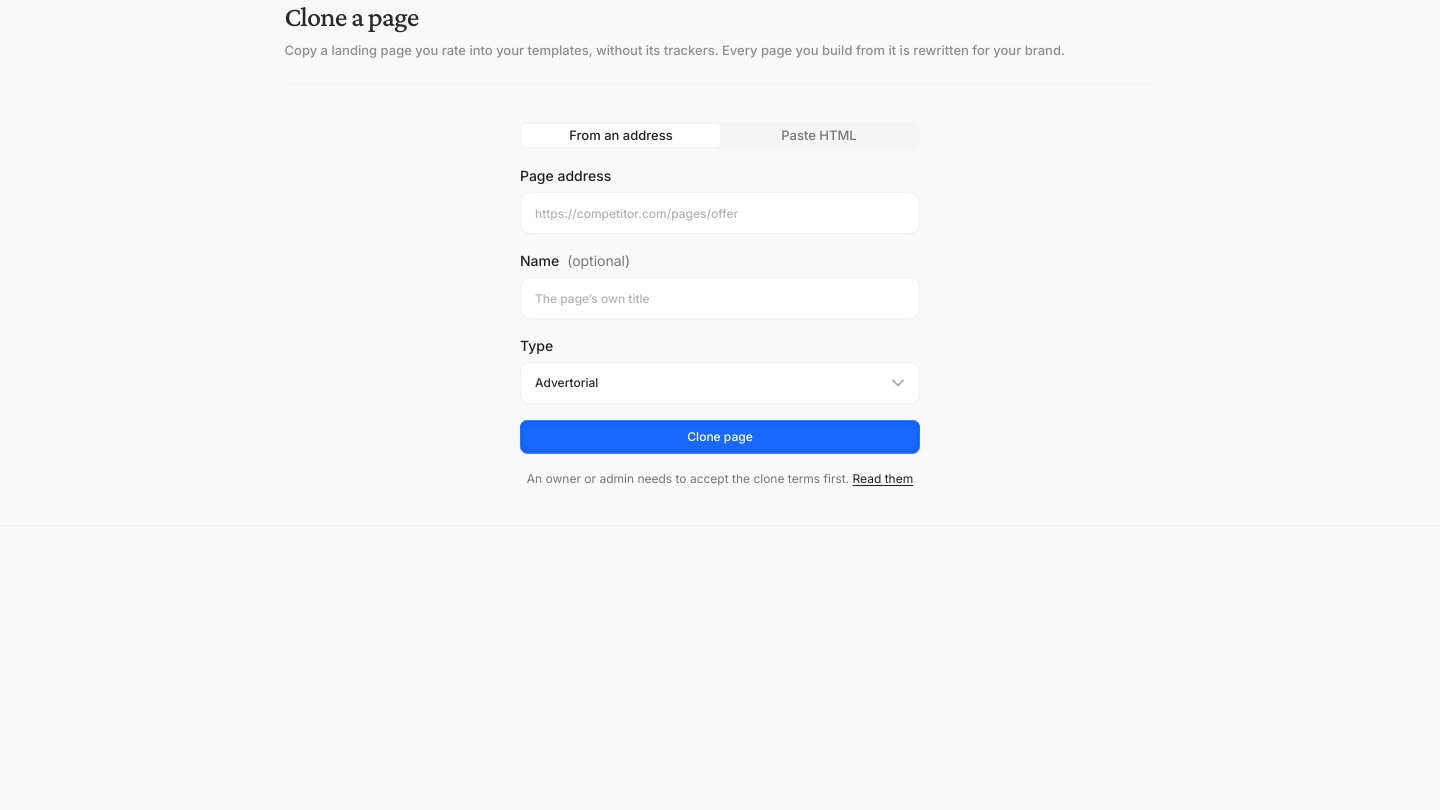
Test: CloneFlow › lets a member read the terms but not accept them
This screenshot has width=1440, height=810.
In the field labelled "Page address": x=720, y=213 520,192 -> 920,234, type "https://resilia.shop/pages/gut"
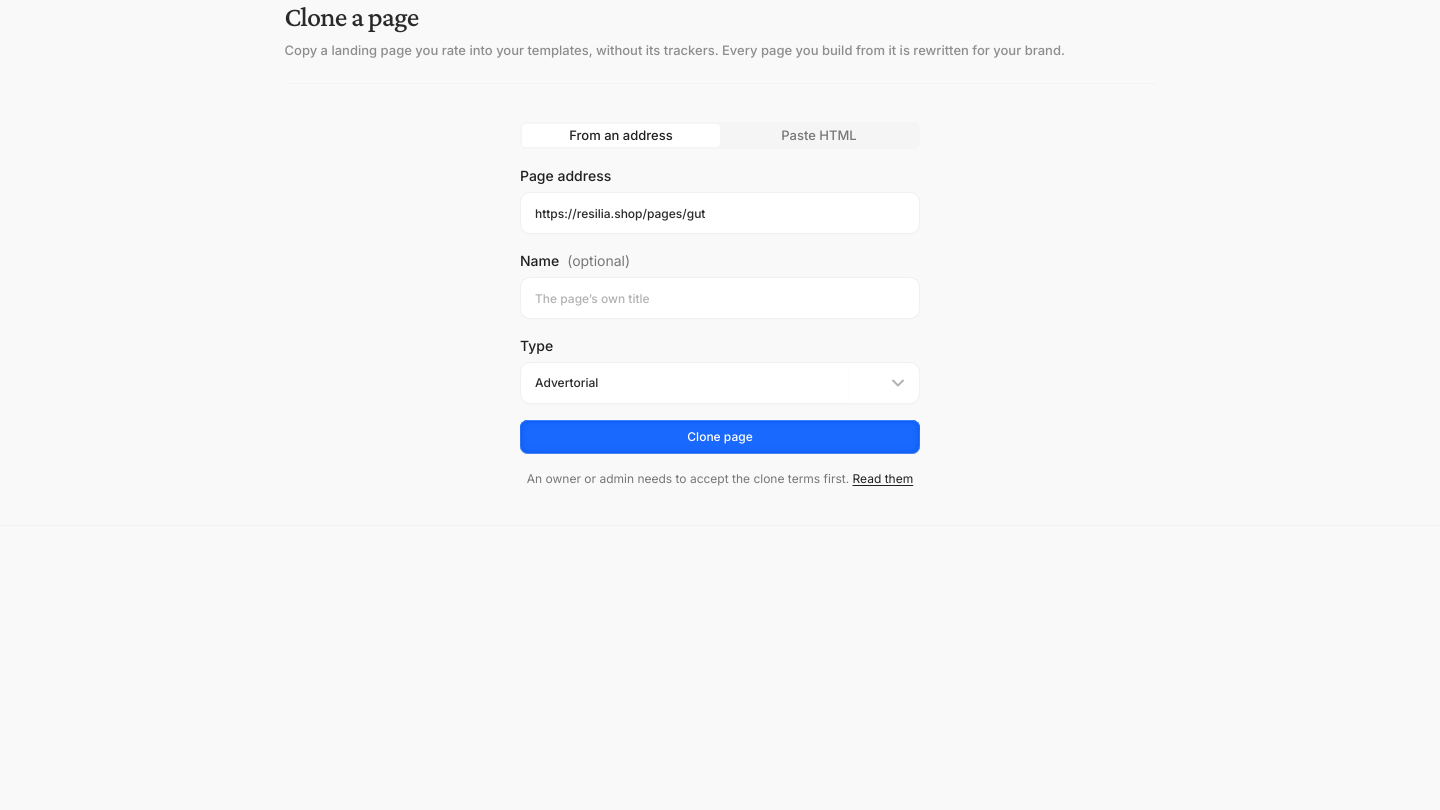
Click the button "Clone page": x=720, y=437 520,420 -> 920,454
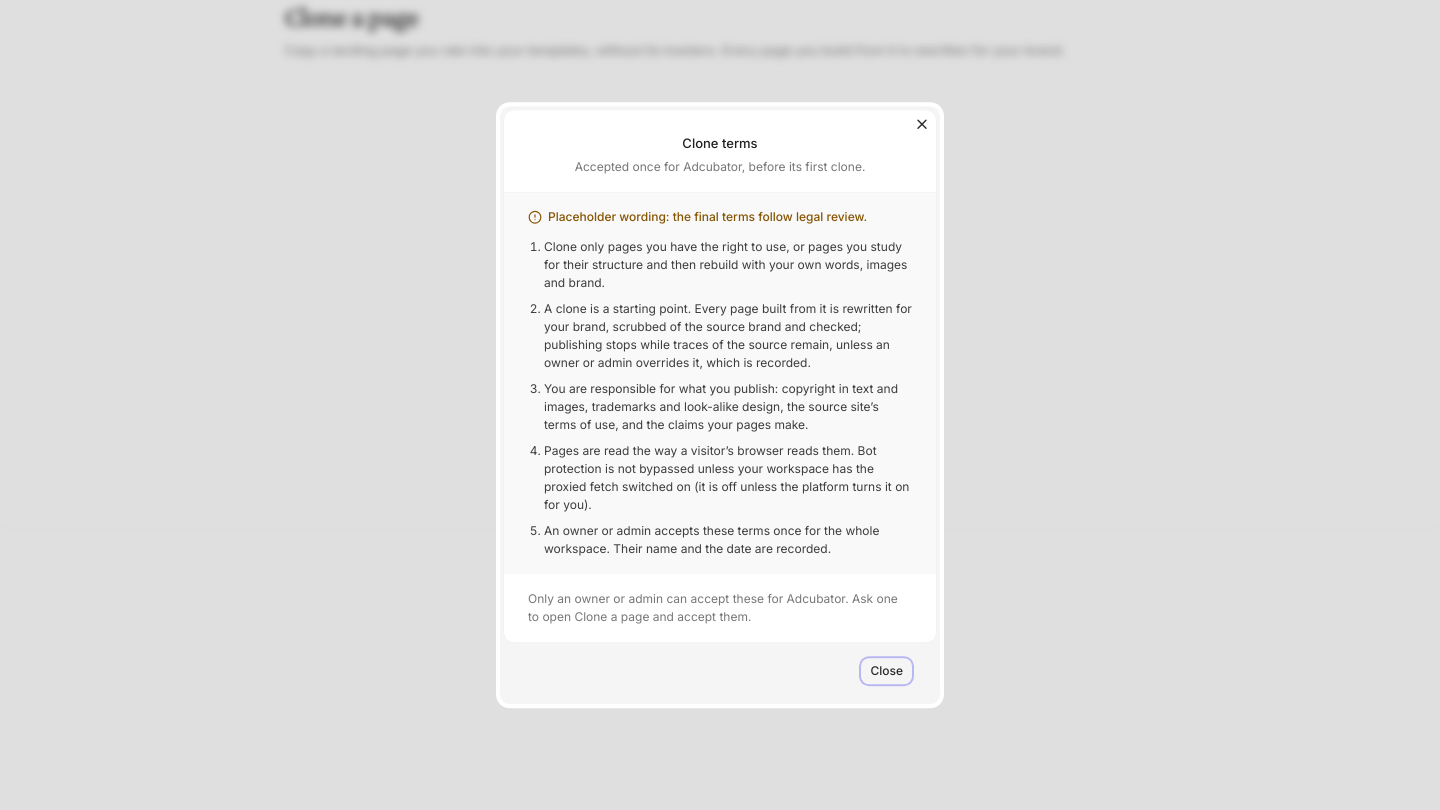
expect the text "Only an owner or admin can accept these" is shown: met, box 528,591 -> 787,606
